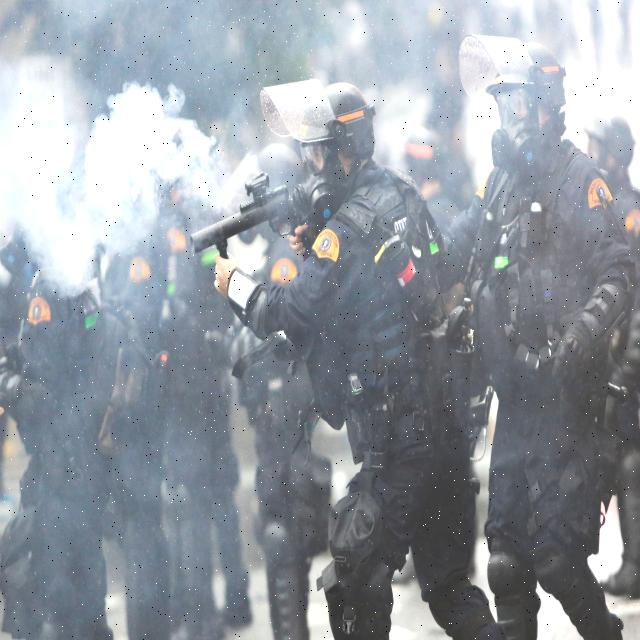police: (181, 39, 487, 640), (433, 25, 617, 640)
